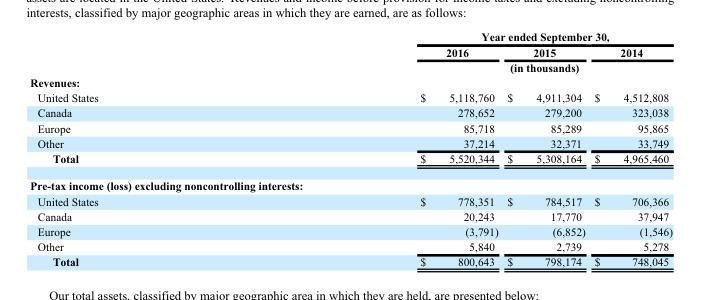table: (29, 28, 671, 268)
table column: (258, 28, 502, 268), (29, 28, 258, 268), (502, 28, 589, 268), (589, 28, 671, 268)
table column header: (29, 28, 671, 74)
table projected row header: (29, 171, 671, 193), (29, 74, 671, 89)
table row: (29, 171, 671, 193), (29, 150, 671, 171), (29, 43, 671, 59), (29, 119, 671, 135), (29, 28, 671, 43), (29, 59, 671, 74), (29, 74, 671, 89), (29, 89, 671, 104), (29, 104, 671, 119), (29, 135, 671, 150), (29, 193, 671, 208), (29, 208, 671, 223), (29, 223, 671, 238), (29, 238, 671, 253), (29, 253, 671, 268)
table spanning cell: (258, 28, 671, 43), (258, 59, 671, 74)
